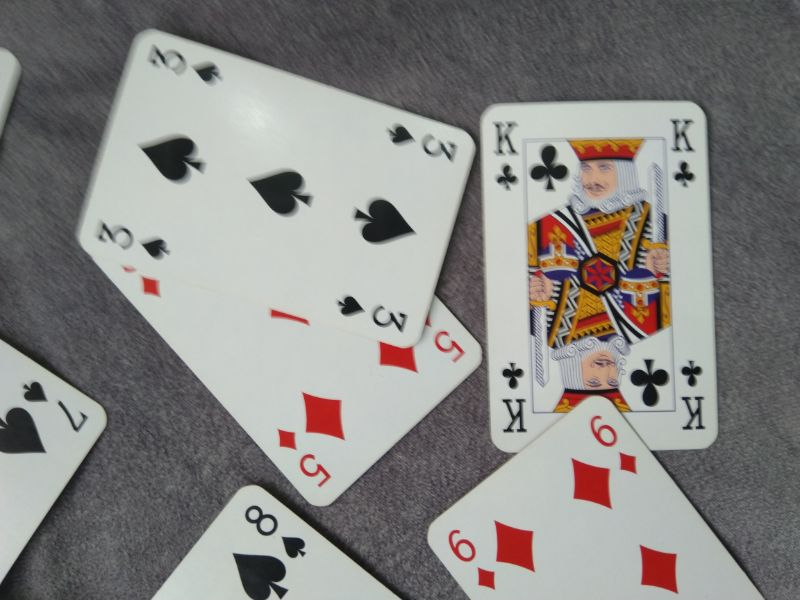3s: (143, 42, 226, 86), (382, 121, 462, 166), (93, 217, 173, 261), (330, 291, 409, 334)
6d: (446, 524, 498, 593), (587, 413, 639, 477)
7s: (18, 378, 93, 435)
8s: (241, 501, 311, 559)
Kc: (488, 115, 523, 191), (496, 359, 530, 437), (678, 356, 709, 432), (668, 113, 698, 190)
